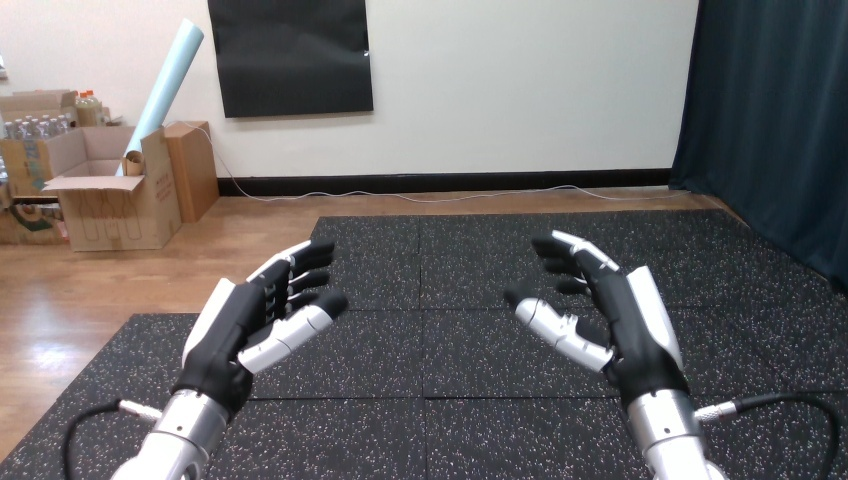left robot hand: (112, 239, 346, 479), (505, 230, 725, 479)
